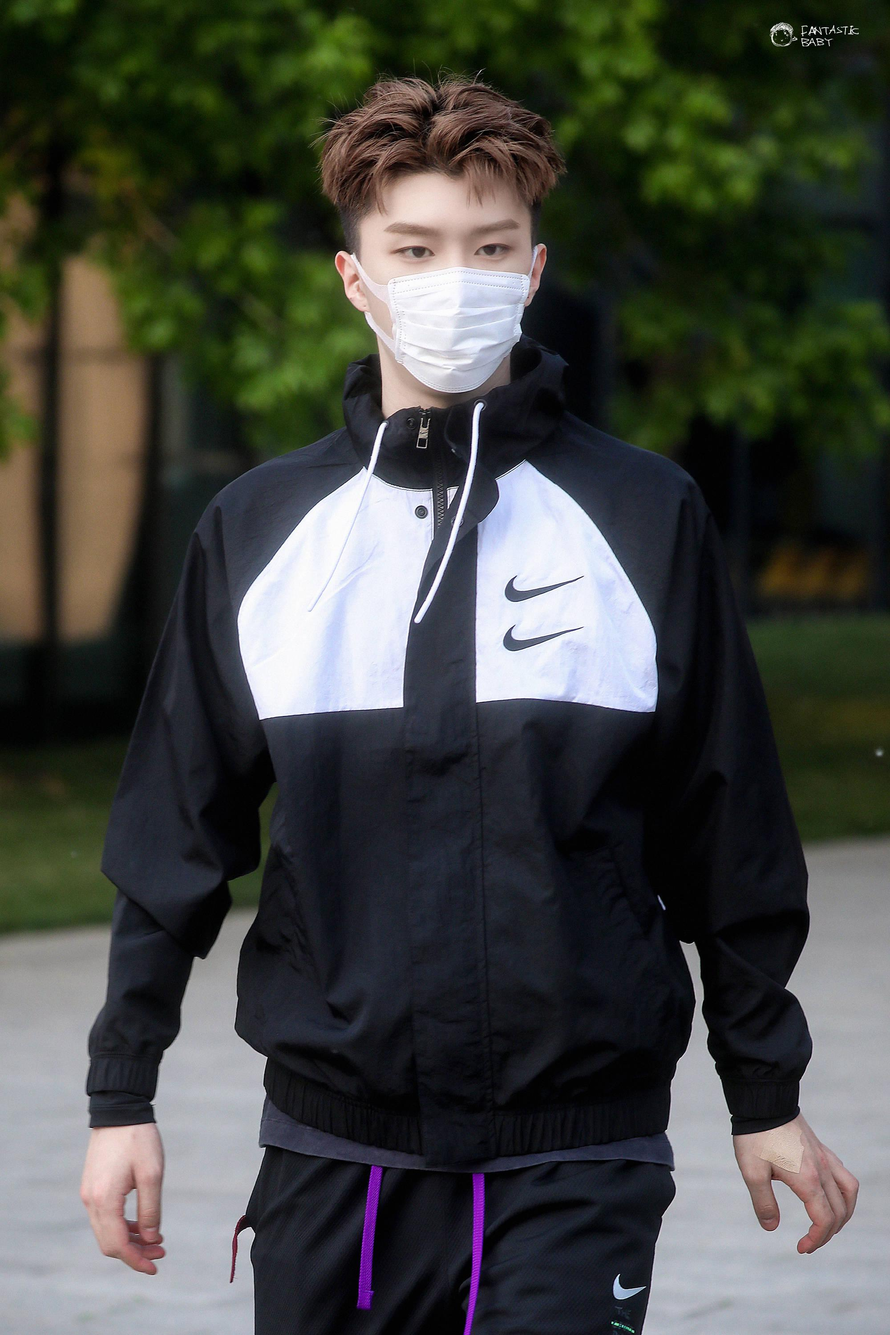OK: (369, 199, 533, 393)
